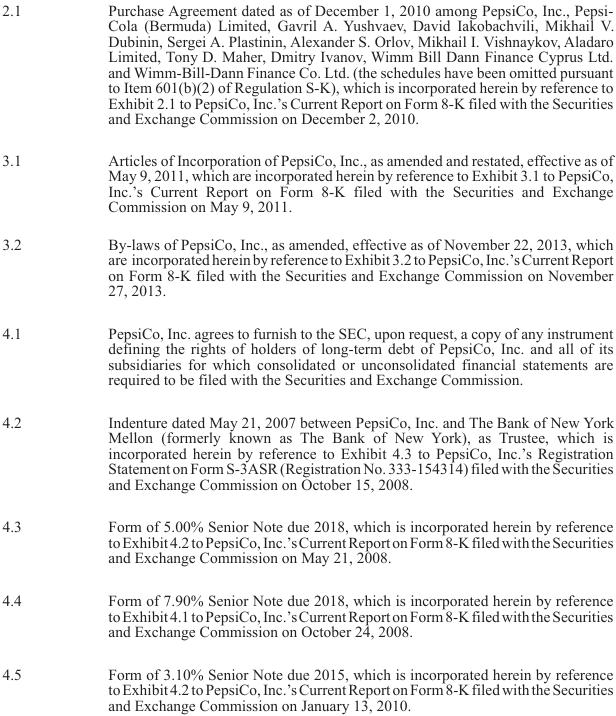table: (1, 0, 613, 713)
table column: (64, 0, 613, 713), (1, 0, 64, 713)
table row: (1, 0, 613, 138), (1, 400, 613, 504), (1, 311, 613, 400), (1, 224, 613, 311), (1, 138, 613, 224), (1, 504, 613, 578), (1, 578, 613, 652), (1, 652, 613, 713)
